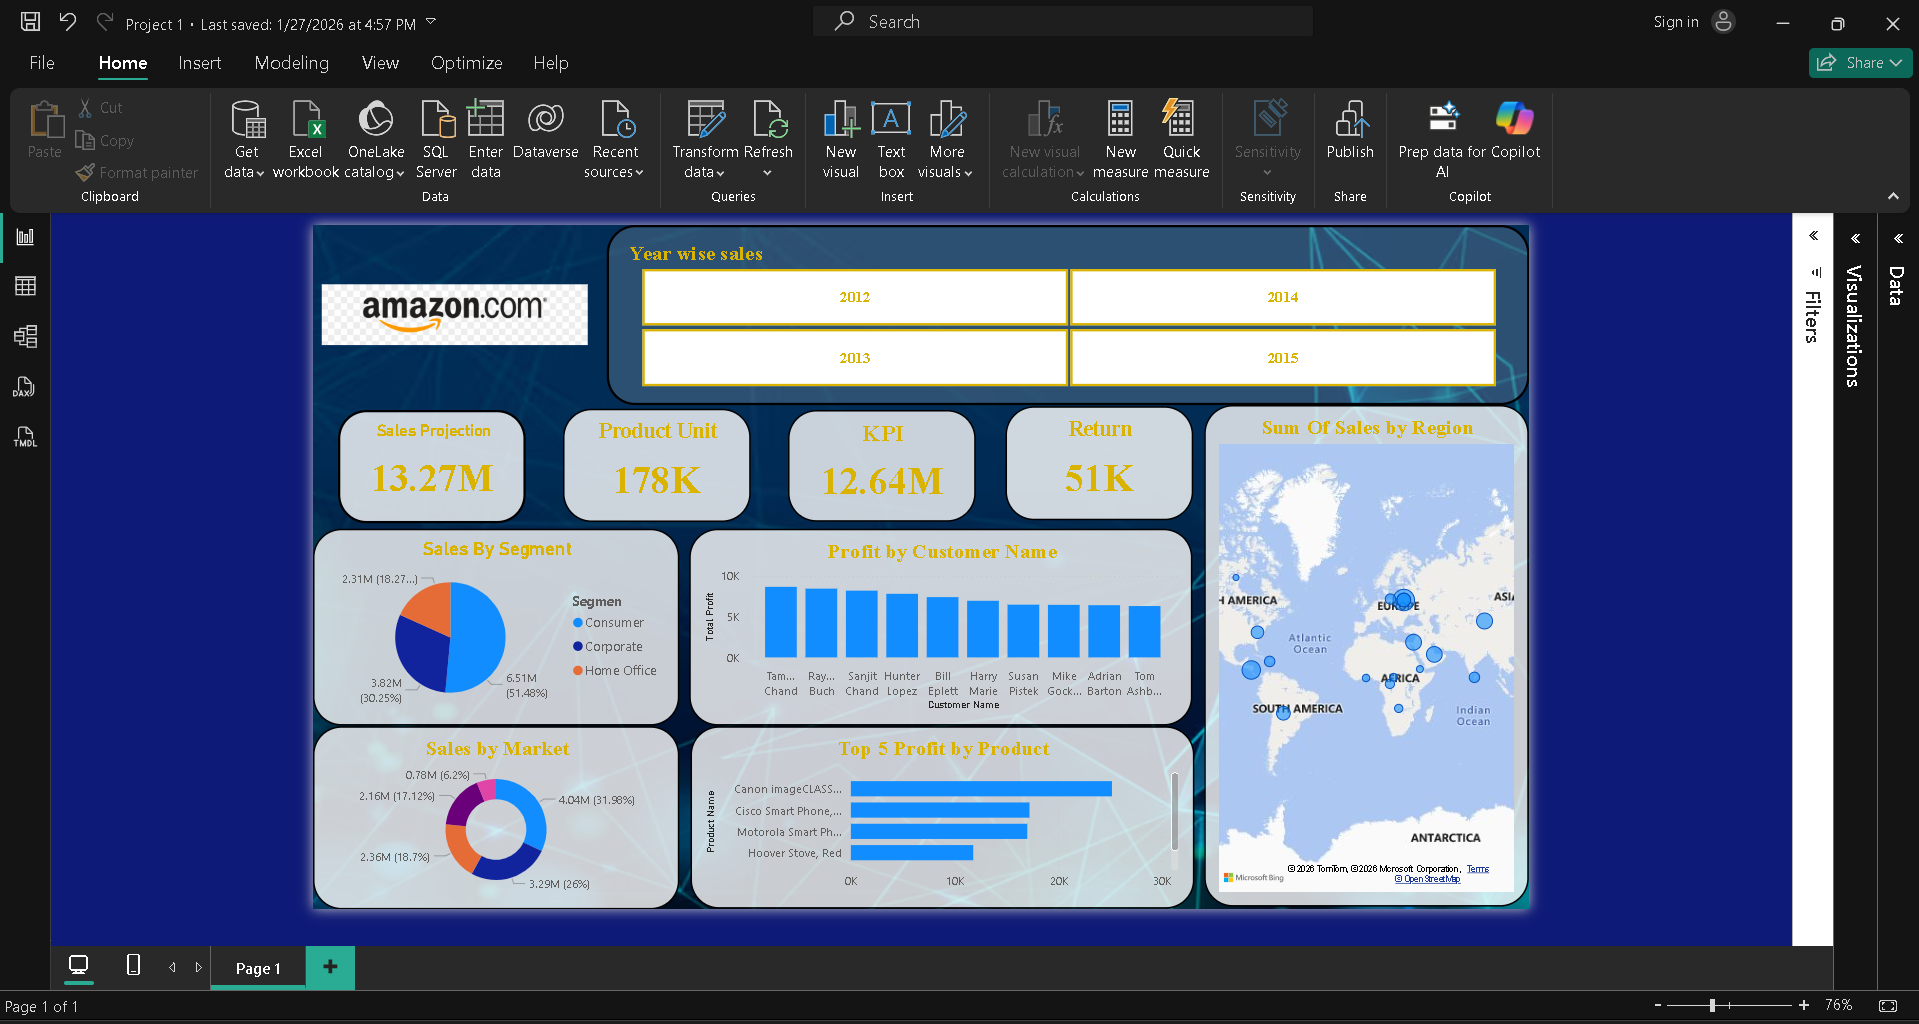

The dashboard page shown, as its layout file describes it:
{"tool":"powerbi","page":{"name":"Page 1","canvas":[1280,720],"ordinal":0},"visuals":[{"type":"image","box":[9.6,0,279.9,189.4],"z":0},{"type":"slicer","fields":{"Values":["Orders.Year"]},"box":[308.7,0,971.5,189.4],"z":1000},{"type":"card","title":"Sales Projection","fields":{"Values":["Orders.Sales Projections"]},"box":[25.8,195.1,197.5,119],"z":2000},{"type":"card","title":"Product Unit","fields":{"Values":["Orders.Total Quantity"]},"box":[262.6,193.9,197.5,119],"z":3000},{"type":"card","title":"KPI","fields":{"Values":["Orders.Total Sales"]},"box":[499.4,195.1,197.5,117.8],"z":4000},{"type":"card","title":"Return","fields":{"Values":["Orders.Total Returns"]},"box":[728.8,191.4,197.5,120.2],"z":5000},{"type":"pieChart","title":"Sales By Segment","fields":{"Category":["Orders.Segment"],"Y":["Orders.Total Sales"]},"box":[0,320.2,385.3,207.4],"z":6000},{"type":"donutChart","title":" Sales by Market","fields":{"Category":["Orders.Market"],"Y":["Orders.Total Sales"]},"box":[0,527.6,385.3,192.6],"z":7000},{"type":"map","title":"Sum Of Sales by Region","fields":{"Category":["Orders.Region"],"Size":["Orders.Total Sales"]},"box":[938.6,189.4,341.7,528.3],"z":8000},{"type":"clusteredColumnChart","title":" Profit by Customer Name","fields":{"Category":["Orders.Customer Name"],"Y":["Orders.Total Profit"]},"box":[396.6,319.7,529.7,207.2],"z":9000},{"type":"barChart","title":"Top 5 Profit by Product","fields":{"Category":["Orders.Product Name"],"Y":["Orders.Total Profit"]},"box":[397,528,530,192],"z":10000}]}

Visuals, with their boxes on the page's 1280x720 design canvas (x1, y1, x2, y2). These are canvas units, not pixel positions in the 1919x1024 screenshot, which may show the page scaled, cropped or inside an application window:
image: l=10, t=0, r=290, b=189
slicer - Orders.Year: l=309, t=0, r=1280, b=189
"Sales Projection" card: l=26, t=195, r=223, b=314
"Product Unit" card: l=263, t=194, r=460, b=313
"KPI" card: l=499, t=195, r=697, b=313
"Return" card: l=729, t=191, r=926, b=312
"Sales By Segment" pieChart: l=0, t=320, r=385, b=528
" Sales by Market" donutChart: l=0, t=528, r=385, b=720
"Sum Of Sales by Region" map: l=939, t=189, r=1280, b=718
" Profit by Customer Name" clusteredColumnChart: l=397, t=320, r=926, b=527
"Top 5 Profit by Product" barChart: l=397, t=528, r=927, b=720
